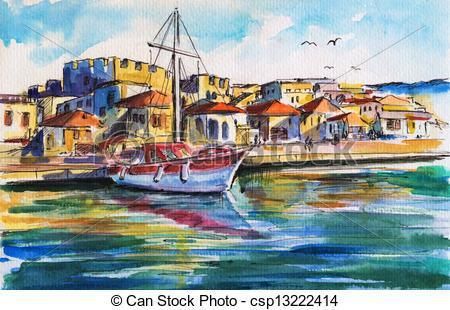boat: (95, 10, 251, 199)
